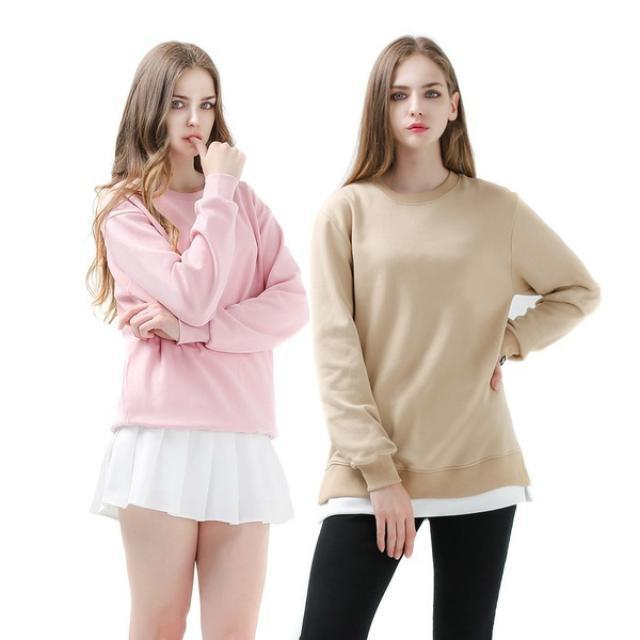short sleeve shirt: (317, 485, 534, 525)
skirt: (85, 419, 296, 527)
sweater: (308, 177, 601, 502), (93, 169, 312, 437)
trousers: (297, 505, 519, 640)
